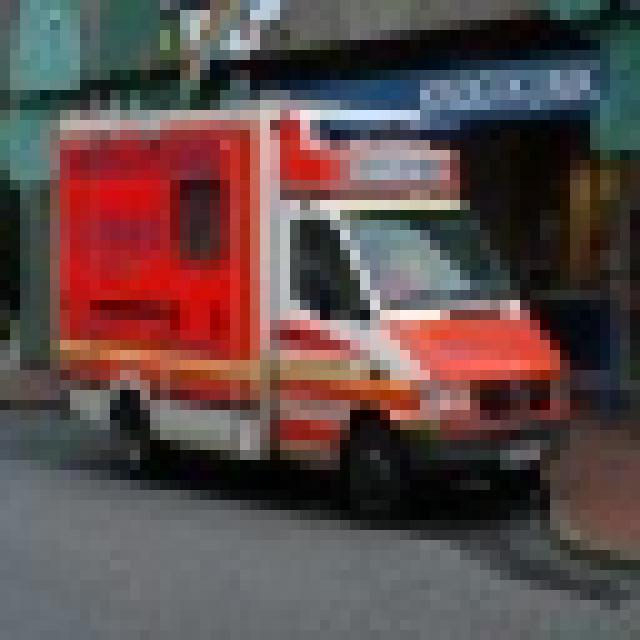Ambulance: (40, 100, 570, 510)
